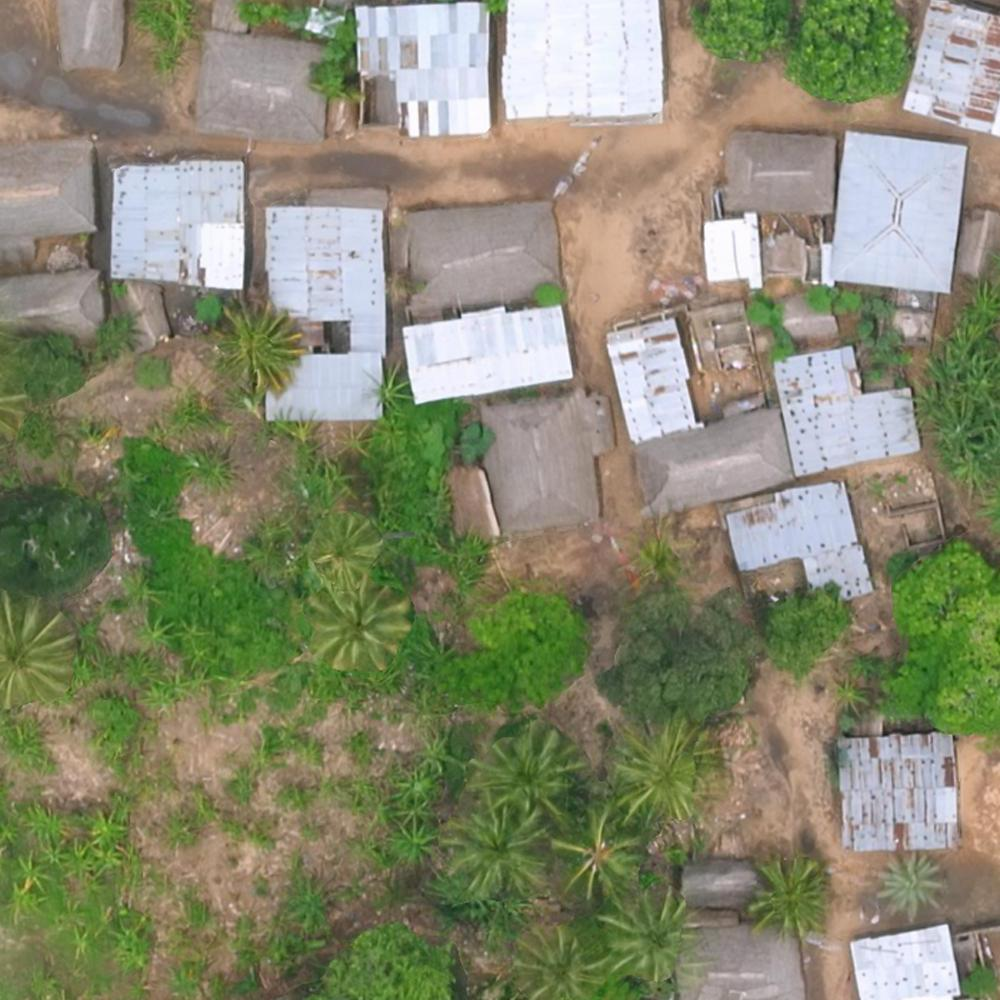Palm: (448, 801, 552, 899), (1, 589, 84, 709), (614, 718, 710, 817), (307, 580, 409, 669), (478, 724, 582, 811), (598, 892, 695, 977), (550, 805, 644, 892), (219, 301, 302, 396), (749, 851, 832, 939), (510, 922, 602, 1000), (310, 515, 379, 581), (872, 855, 942, 916)
